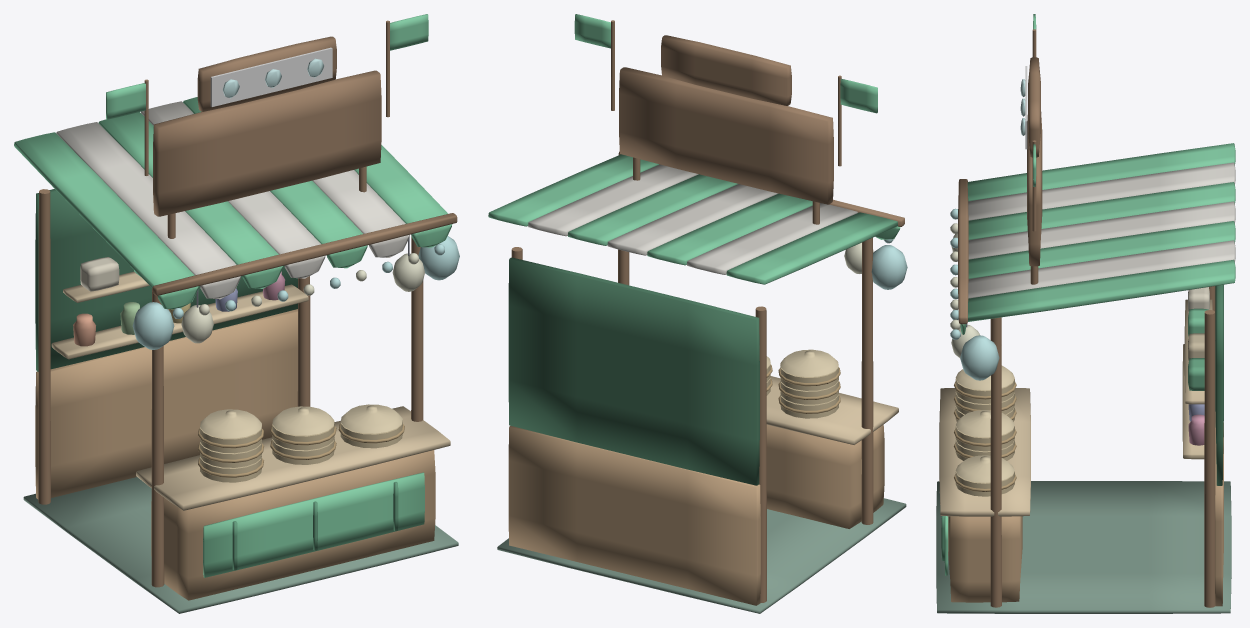
Rendered from stall_dumplings.glb.
3 views of the same model, side by side, from view 1: azimuth 30°, elevation 25°; view 2: azimuth 150°, elevation 25°; view 3: azimuth 270°, elevation 25° (orthographic). The views are drawn at different scales.
Parts seen in each view (by area): view 1: body, level3, level2; view 2: body, level3, level2; view 3: body, level2, level3.
Boxes of the visible parts, bbox=[...] form: body: bbox=[14, 70, 458, 613]; level3: bbox=[106, 14, 428, 175]; level2: bbox=[63, 236, 459, 349]; body: bbox=[488, 67, 906, 613]; level3: bbox=[574, 14, 877, 166]; level2: bbox=[871, 239, 907, 289]; body: bbox=[936, 112, 1235, 613]; level2: bbox=[950, 208, 1212, 404]; level3: bbox=[1020, 14, 1040, 231].
Size of the model in its own units: 3.2 by 4.68 by 2.73.
